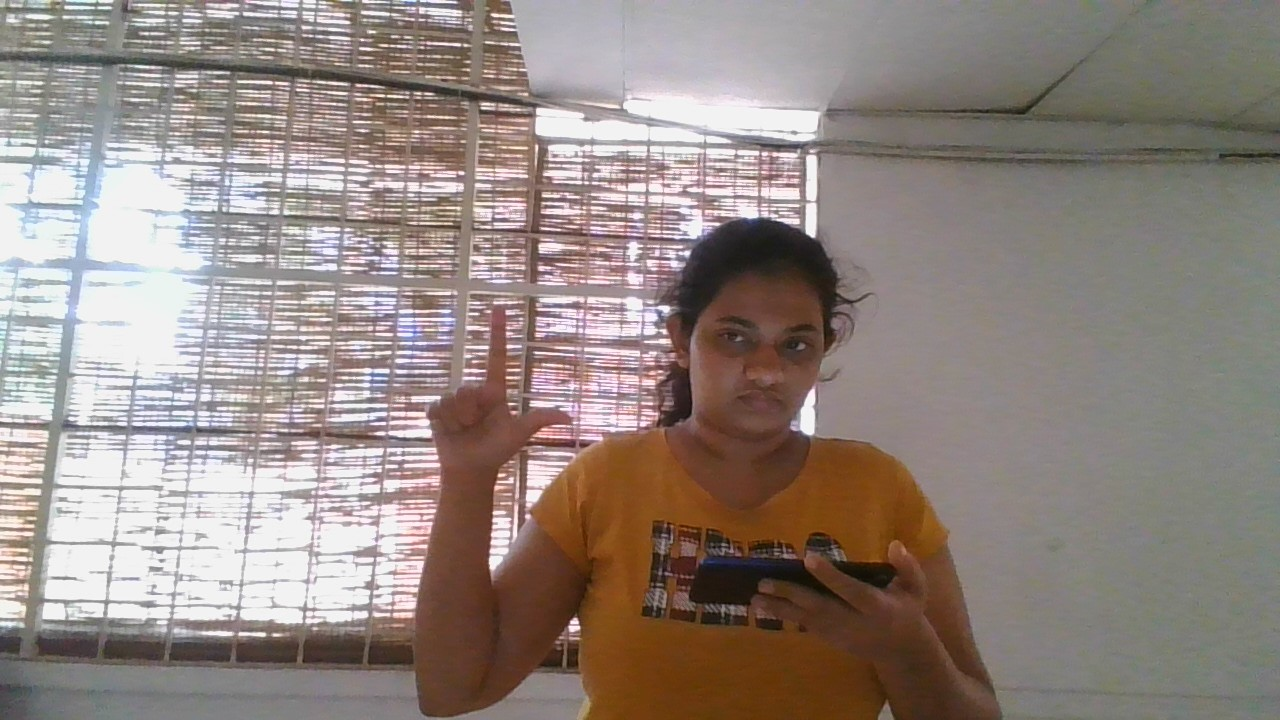l: (399, 302, 584, 489)
